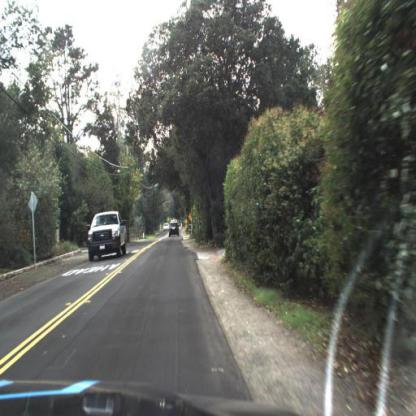car: (87, 209, 129, 265), (169, 220, 181, 239)
